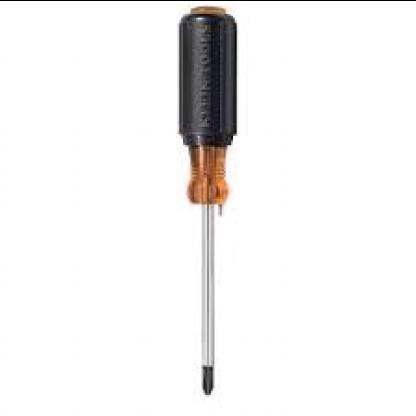Screw Driver: (171, 0, 243, 400)
